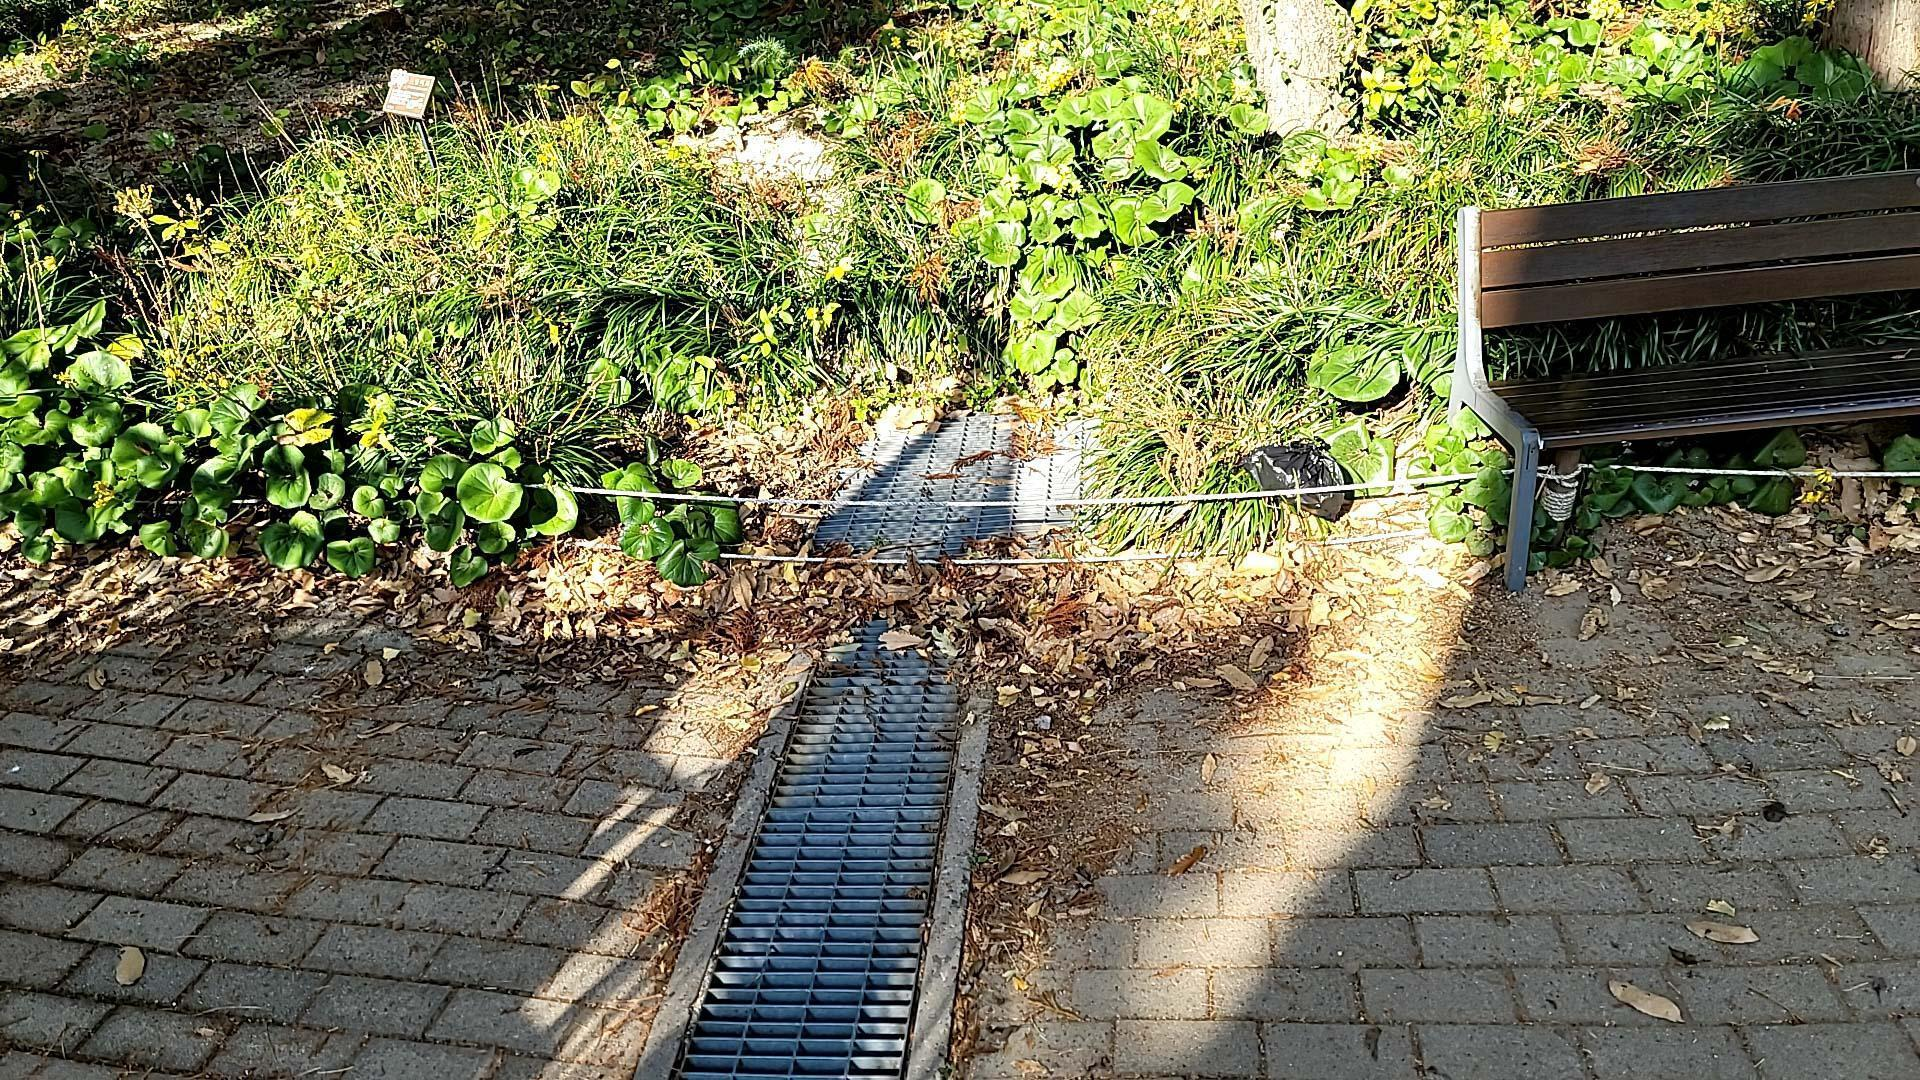black_bag: (1244, 429, 1354, 530)
